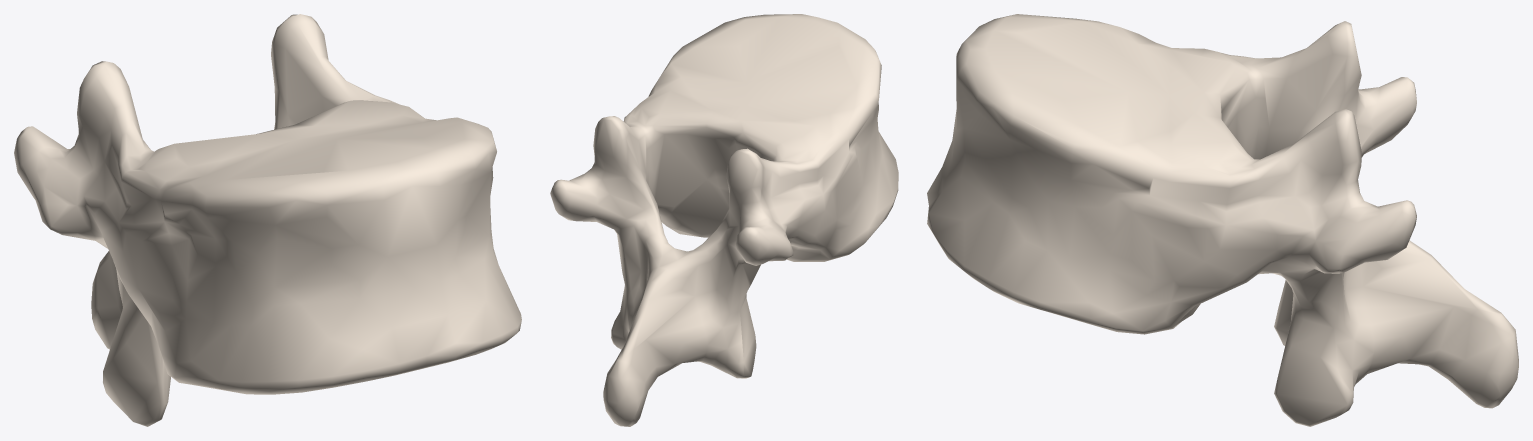
3 views of the same model, side by side, from view 1: azimuth 30°, elevation 25°; view 2: azimuth 150°, elevation 25°; view 3: azimuth 270°, elevation 25° (orthographic). The views are drawn at different scales.
Parts seen in each view (by area): view 1: Thoracic vertebrae (T12); view 2: Thoracic vertebrae (T12); view 3: Thoracic vertebrae (T12).
Part boxes in pixels (<box>): Thoracic vertebrae (T12): <box>14,14,521,426</box>; Thoracic vertebrae (T12): <box>550,14,898,426</box>; Thoracic vertebrae (T12): <box>927,14,1518,426</box>.
Size of the model in its own units: 0.0461 by 0.0531 by 0.0801.
